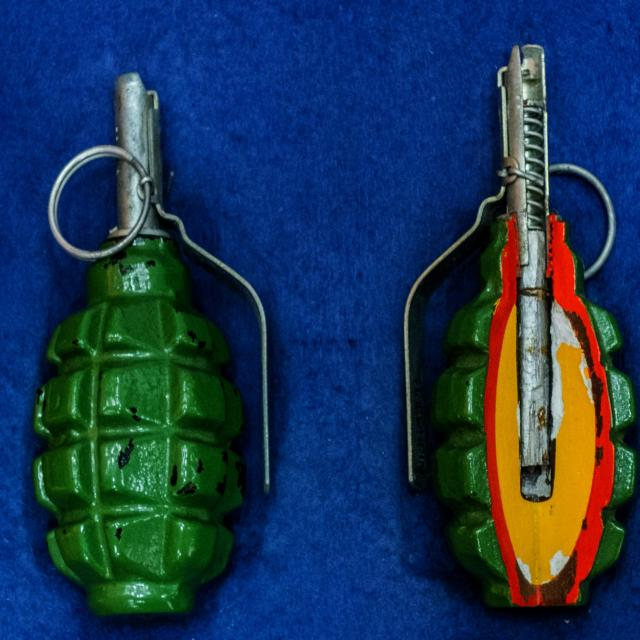grenade: (404, 44, 639, 613), (34, 73, 269, 612)
